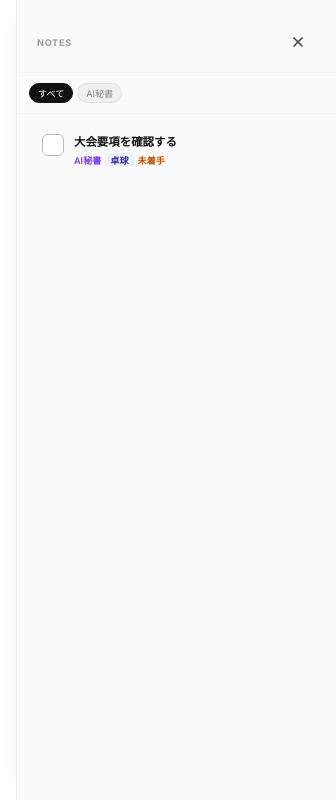
Test: NOTES パネルの正式タスク › 保存できなかった変更を利用者に表示する
Click the checkbox named "「大会要項を確認する」を完了にする": (53, 145) [42,134,64,156]
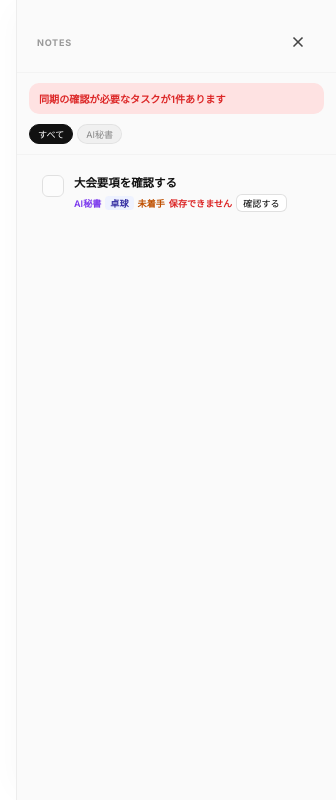
Now the text "同期の確認が必要なタスクが1件あります" is shown, box [29,83,324,114]
Now the text "保存できません" is shown, box [169,196,232,210]
